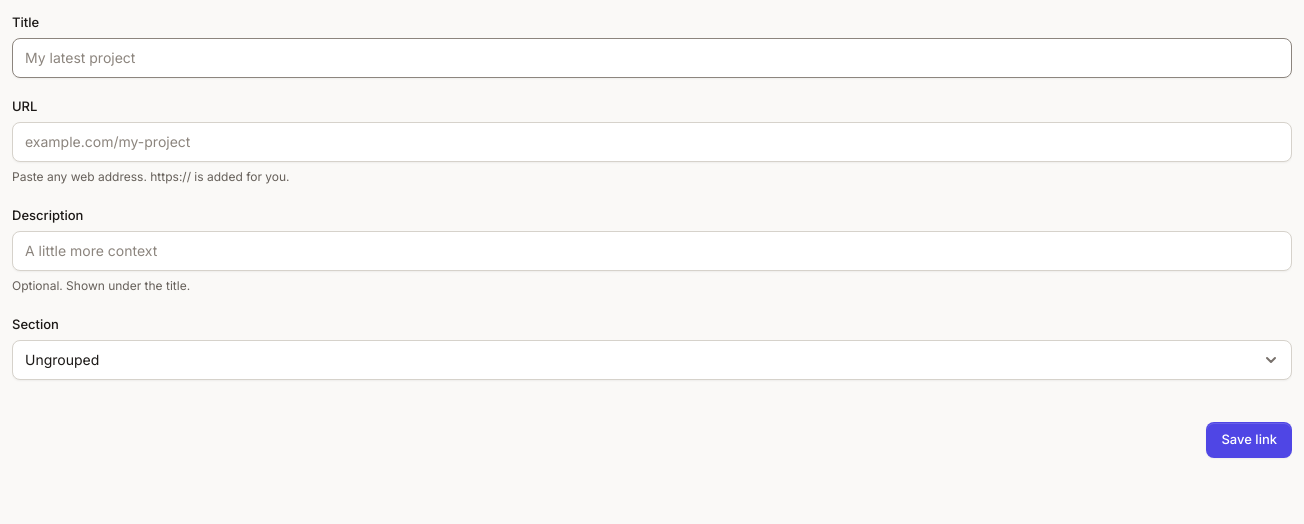
Test: validates link title before saving
Click the button "Save link" at (1249, 440), box x1=1206 y1=422 x2=1292 y2=458
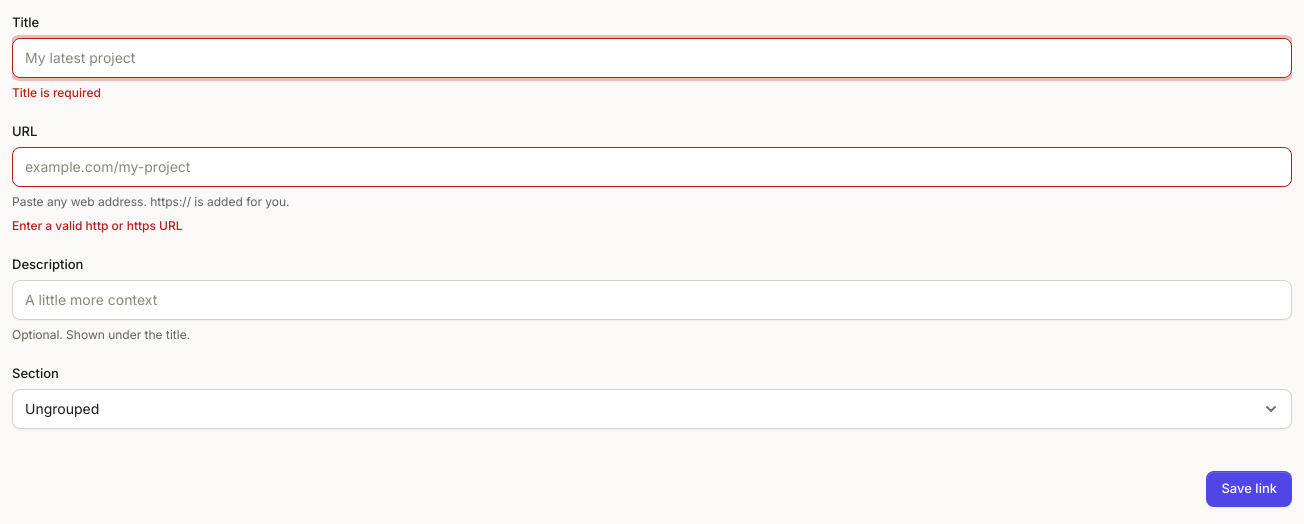
Now the text "Title is required" is shown, box x1=12 y1=85 x2=101 y2=100
